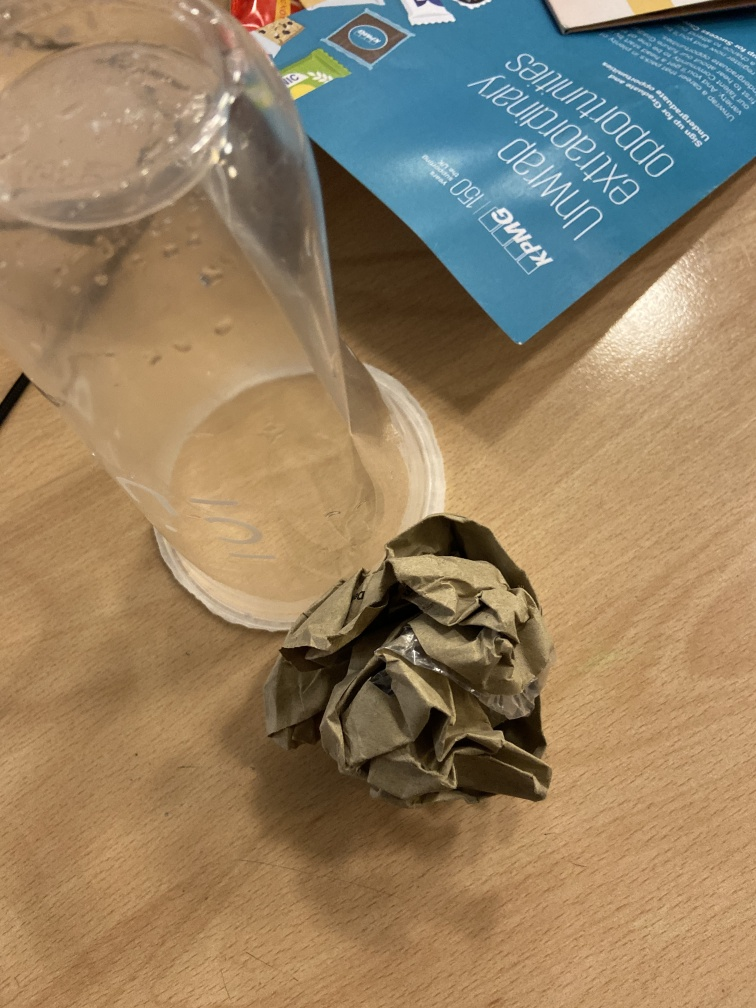paper_brown: (255, 513, 575, 831)
